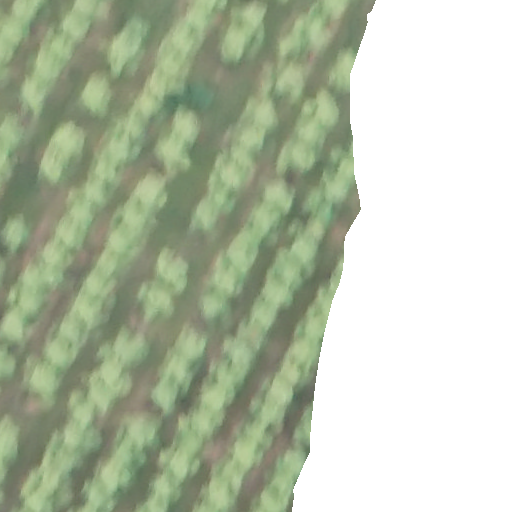eucalipto: (326, 46, 365, 100), (106, 25, 148, 75), (22, 252, 68, 295), (40, 432, 88, 473), (265, 248, 306, 296), (54, 204, 94, 251), (146, 61, 190, 103), (58, 414, 103, 454), (152, 136, 193, 178), (73, 286, 114, 328), (217, 336, 260, 376), (276, 138, 321, 176), (96, 355, 133, 401), (211, 251, 248, 297), (40, 325, 76, 372), (82, 165, 123, 206), (154, 38, 196, 78), (91, 148, 134, 187), (108, 123, 146, 167), (169, 326, 213, 364), (283, 237, 320, 281), (134, 283, 176, 321), (243, 295, 286, 332), (41, 230, 80, 269), (133, 171, 172, 210), (258, 179, 298, 217), (55, 307, 91, 349), (169, 19, 213, 53), (104, 223, 148, 257), (14, 284, 51, 324), (229, 318, 269, 355), (306, 91, 342, 132), (257, 275, 298, 311), (218, 31, 265, 62), (119, 203, 161, 237), (220, 148, 254, 190), (154, 248, 188, 290), (80, 76, 116, 115), (200, 372, 239, 408), (194, 391, 228, 432), (227, 233, 260, 275), (63, 190, 100, 227), (193, 293, 232, 328), (26, 362, 60, 402), (291, 114, 331, 148), (1, 306, 36, 344), (115, 331, 151, 367), (80, 266, 118, 299), (246, 202, 284, 235), (48, 121, 84, 155), (135, 83, 168, 120), (123, 417, 160, 450), (188, 194, 219, 233), (225, 1, 273, 26), (169, 107, 202, 143), (274, 65, 306, 102), (150, 382, 182, 419), (1, 213, 31, 252), (206, 477, 243, 508), (251, 95, 279, 135), (230, 438, 266, 469), (263, 376, 299, 407), (237, 118, 266, 154), (305, 16, 332, 54), (22, 79, 53, 112), (176, 421, 206, 455), (279, 338, 316, 365), (1, 15, 32, 47), (335, 152, 366, 184), (300, 217, 332, 247), (291, 315, 323, 345), (34, 52, 68, 80), (188, 408, 215, 443), (163, 362, 193, 393), (320, 177, 351, 207), (308, 202, 340, 231), (10, 1, 46, 25), (47, 33, 79, 59), (72, 1, 109, 23), (315, 1, 352, 23), (209, 185, 238, 213), (260, 408, 291, 434), (62, 15, 91, 40), (96, 247, 121, 276), (280, 362, 305, 387), (1, 37, 19, 66)
